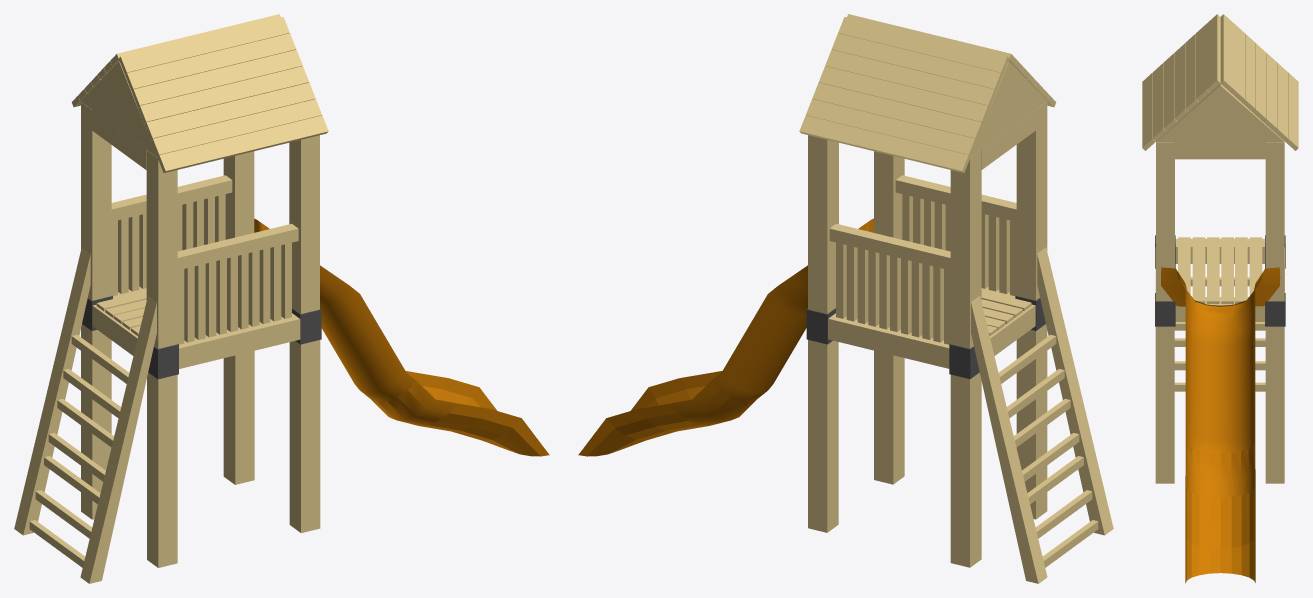
File: Slide.fbx
The picture shows the model from 3 angles, left to right: view 1: azimuth 30°, elevation 25°; view 2: azimuth 150°, elevation 25°; view 3: azimuth 270°, elevation 25°; orthographic projection. The views are drawn at different scales.
Visible parts, largest first — view 1: Slide, pCube78, pCube77, pCube80, pCube47, pCube83, pCube44, pCube46, pCube64 (×2), pCube79, pCube76, pCube40 (+31 smaller); view 2: Slide, pCube76, pCube79, pCube83, pCube46, pCube80, pCube47, pCube45, pCube64 (×2), pCube78, pCube77, pCube41 (+31 smaller); view 3: Slide, pCube42, pCube78, pCube79, pCube45, pCube44, pCube48, pCube37, pCube36, pCube62, pCube32, pCube33 (+21 smaller).
Part boxes in pixels (x1,y1,x2,y2): Slide: (254,218,549,456); pCube78: (289,340,320,533); pCube77: (147,372,177,567); pCube80: (80,296,156,583); pCube47: (146,150,177,348); pCube83: (14,247,90,535); pCube44: (289,135,319,313); pCube46: (81,102,111,300); pCube64 (×2): (111,175,298,270); pCube79: (223,351,254,484); pCube76: (81,324,111,519); pCube40: (157,115,328,172); Slide: (578,218,873,456); pCube76: (950,372,981,567); pCube79: (808,340,838,532); pCube83: (971,296,1047,583); pCube46: (950,150,981,348); pCube80: (1037,247,1113,535); pCube47: (1016,102,1047,300); pCube45: (808,135,838,313); pCube64 (×2): (829,175,1016,270); pCube78: (874,350,904,484); pCube77: (1016,324,1047,519); pCube41: (799,115,970,172); Slide: (1161,267,1280,583); pCube42: (1156,83,1284,142); pCube78: (1155,326,1174,483); pCube79: (1265,326,1284,483); pCube45: (1265,142,1284,301); pCube44: (1156,142,1174,301); pCube48: (1174,142,1265,159); pCube37: (1220,14,1234,92); pCube36: (1206,14,1220,92); pCube62: (1192,237,1205,303); pCube32: (1163,53,1177,131); pCube33: (1263,53,1277,131).
Size of the model in its own units: 530 by 515 by 181.
